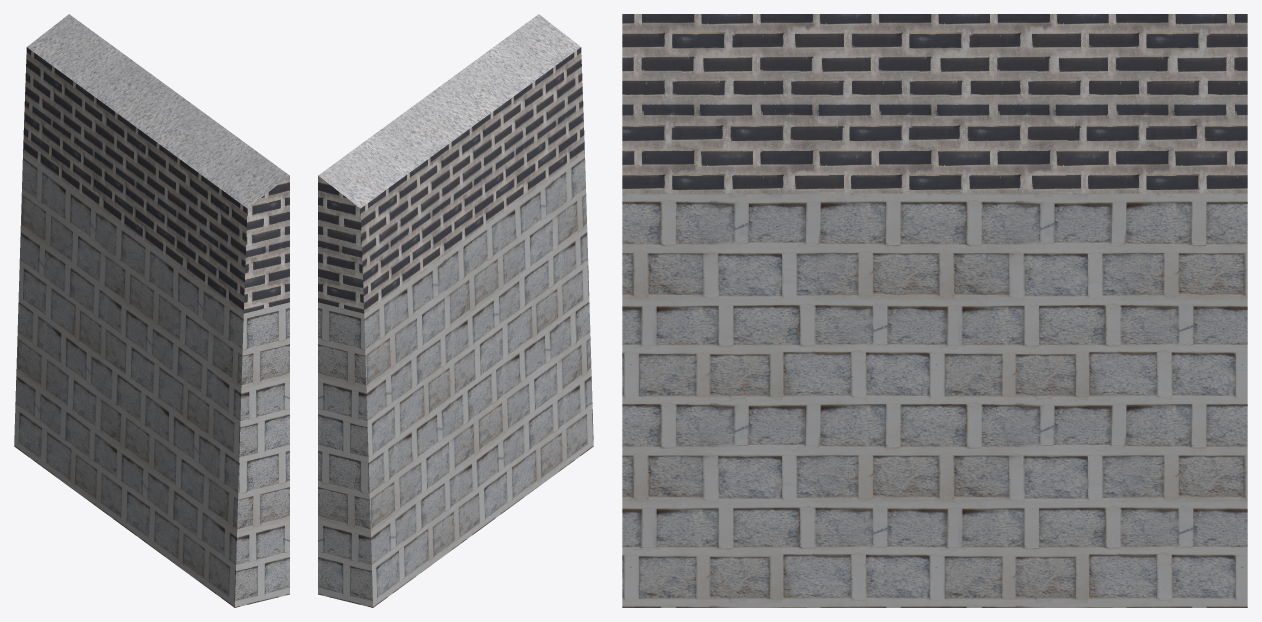
The model's file is SM_W_Stone_1.fbx.
3 renders of one model, left to right at view 1: azimuth 30°, elevation 25°; view 2: azimuth 150°, elevation 25°; view 3: azimuth 270°, elevation 25°, orthographic. The views are drawn at different scales.
Parts seen in each view (by area): view 1: SM_W_Stone_1; view 2: SM_W_Stone_1; view 3: SM_W_Stone_1.
Boxes of the visible parts, x1,y1,x2,y2 form: SM_W_Stone_1: [14, 14, 289, 607]; SM_W_Stone_1: [318, 14, 593, 607]; SM_W_Stone_1: [622, 14, 1247, 607].
Bounding box in the file's own units: 28.34 × 197 × 206.
Materials: 3 (3 with a texture image).
